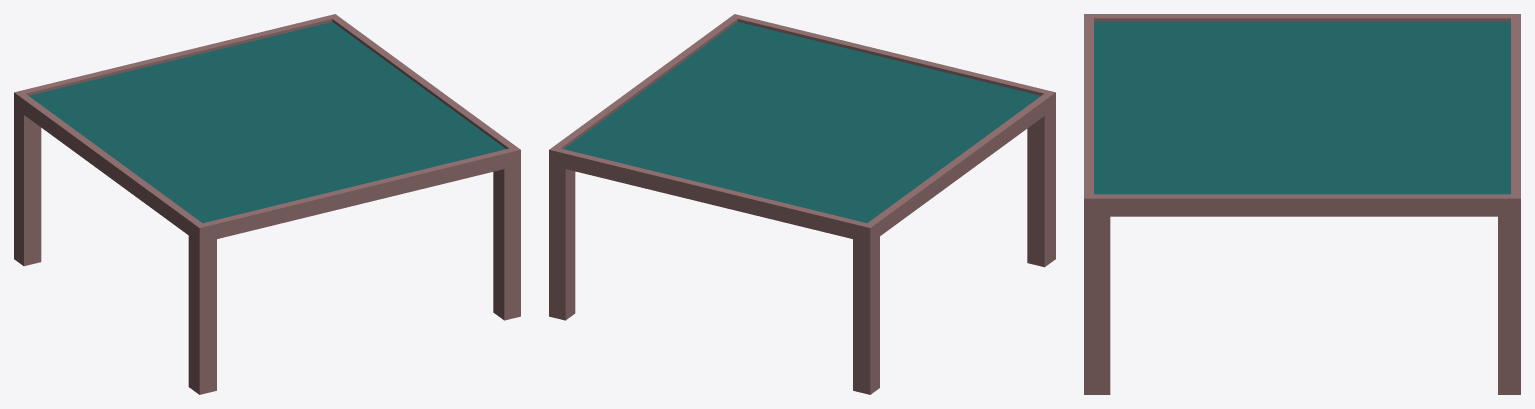
Rendered from table.glb.
3 views of the same model, side by side, from view 1: azimuth 30°, elevation 25°; view 2: azimuth 150°, elevation 25°; view 3: azimuth 270°, elevation 25° (orthographic). The views are drawn at different scales.
Parts seen in each view (by area): view 1: Cube; view 2: Cube; view 3: Cube.
Part boxes in pixels (x1,y1,x2,y2): Cube: (14,14,520,394); Cube: (549,14,1055,394); Cube: (1084,14,1520,394).
Size of what is drawn, in the model's own units: 2 by 0.9925 by 2.
Materials: 1 (1 with a texture image).
